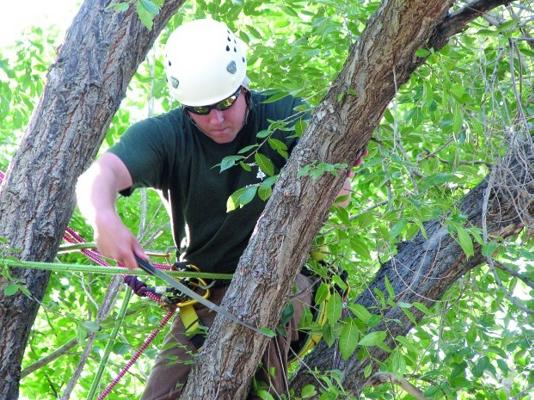person: (73, 16, 372, 400)
